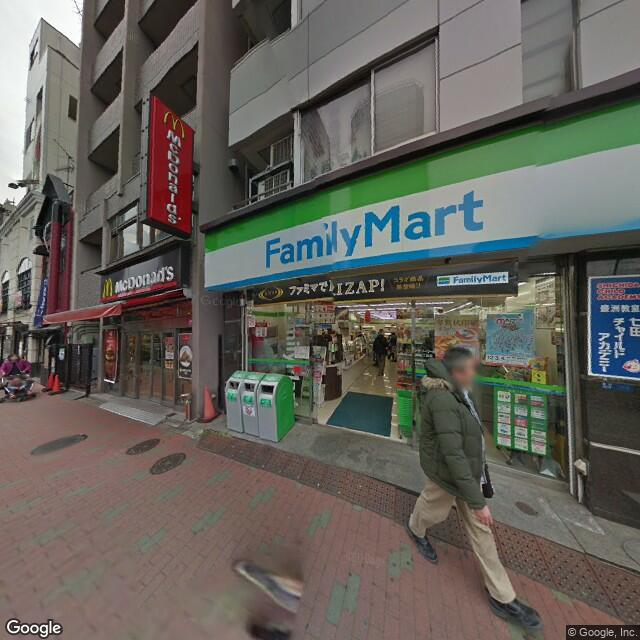family_mart: (202, 96, 637, 298), (262, 177, 490, 274)
